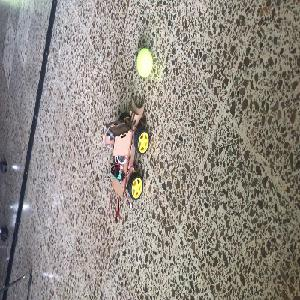Ball: (136, 49, 153, 77)
Robot: (102, 98, 150, 205)
